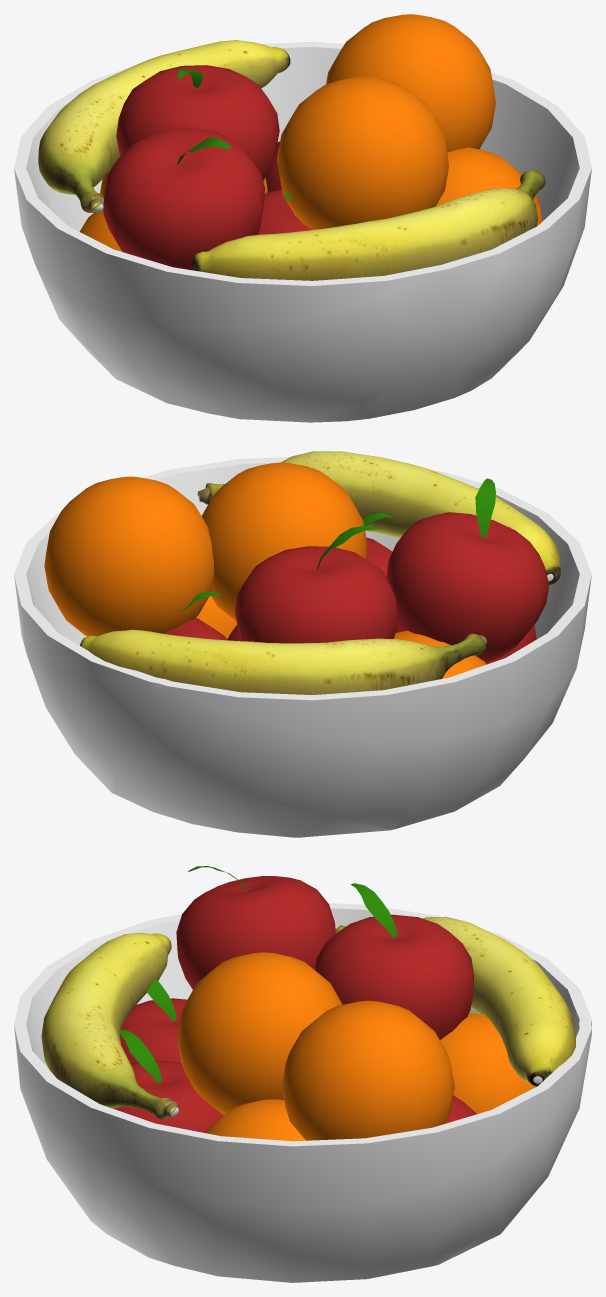
File: fruit_bowl.dae
The picture shows the model from 3 angles, top to bottom: view 1: azimuth 30°, elevation 25°; view 2: azimuth 150°, elevation 25°; view 3: azimuth 270°, elevation 25°; orthographic projection.
Parts seen in each view (by area): view 1: Component_177, Component_175 (×4), skpD08B (×2), Component_173 (×3), Component_174 (×2); view 2: Component_177, Component_175 (×4), skpD08B (×2), Component_174 (×2), Component_173 (×4), Component_176; view 3: Component_177, Component_175 (×4), skpD08B (×2), Component_174 (×4), Component_173 (×4), Component_176 (×3).
Boxes of the visible parts, box(x1,y1,x2,y2) form: Component_177: box(14, 41, 591, 422); Component_175 (×4): box(79, 14, 542, 251); skpD08B (×2): box(38, 40, 545, 280); Component_173 (×3): box(109, 68, 312, 270); Component_174 (×2): box(103, 65, 279, 238); Component_177: box(14, 457, 591, 837); Component_175 (×4): box(44, 462, 486, 678); skpD08B (×2): box(80, 451, 561, 694); Component_174 (×2): box(235, 513, 529, 661); Component_173 (×4): box(163, 512, 549, 662); Component_176: box(475, 478, 495, 537); Component_177: box(14, 903, 591, 1282); Component_175 (×4): box(177, 952, 535, 1141); skpD08B (×2): box(41, 916, 575, 1119); Component_174 (×4): box(113, 876, 473, 1132); Component_173 (×4): box(126, 877, 473, 1083); Component_176 (×3): box(120, 883, 397, 1083).
Size of the model in its own units: 9.84 by 9.82 by 4.95.
Materials: 5 (1 with a texture image).
